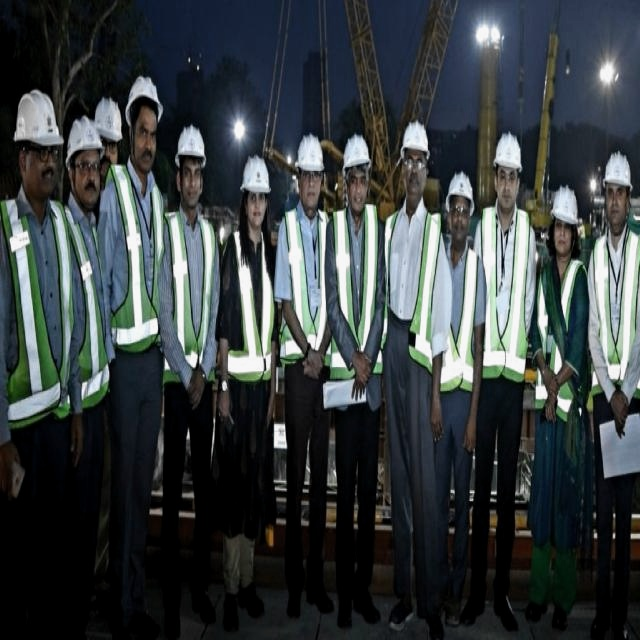Con_Casco: (14, 88, 63, 184), (126, 78, 162, 159), (175, 126, 206, 202), (603, 150, 633, 226), (401, 120, 430, 198), (295, 134, 325, 206), (493, 133, 523, 203), (240, 155, 270, 220), (342, 133, 370, 202), (445, 172, 475, 236), (552, 184, 577, 252)
Con_Chaleco: (0, 199, 66, 426), (105, 166, 161, 346), (161, 211, 217, 381), (327, 205, 381, 380), (218, 227, 274, 385), (481, 207, 532, 376), (589, 231, 639, 398), (382, 213, 438, 362), (276, 210, 326, 371), (534, 266, 582, 413), (439, 249, 478, 392)
